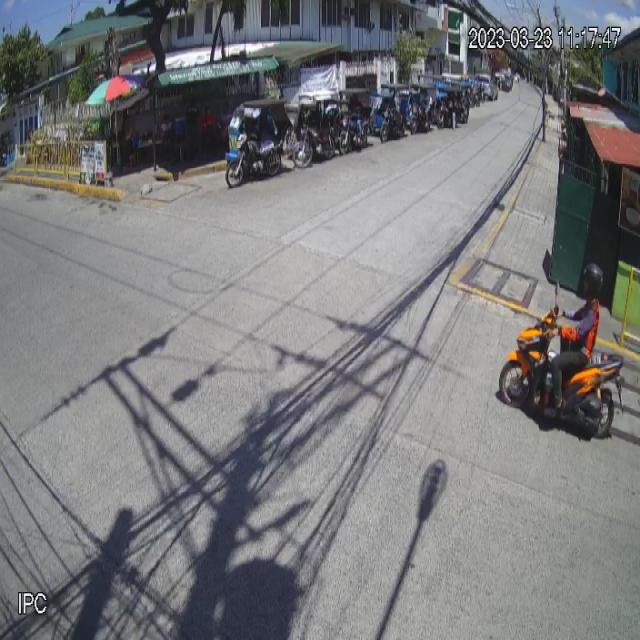Motorcycle: (498, 280, 625, 438)
